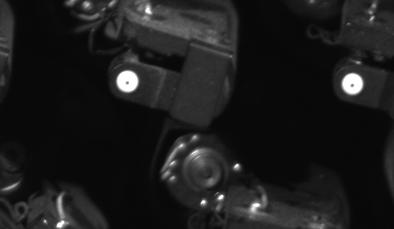fiber: (336, 68, 375, 103), (113, 65, 145, 99)
